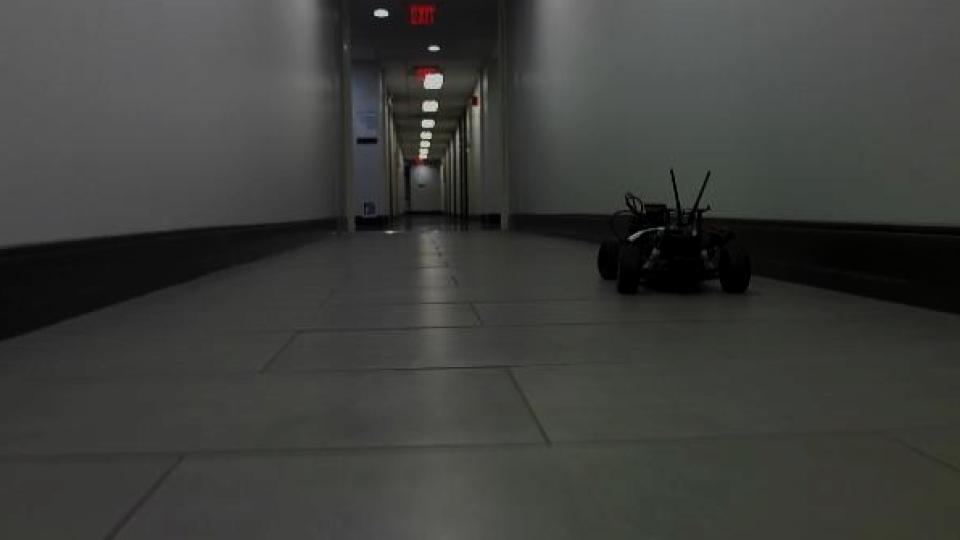car: (594, 166, 756, 298)
